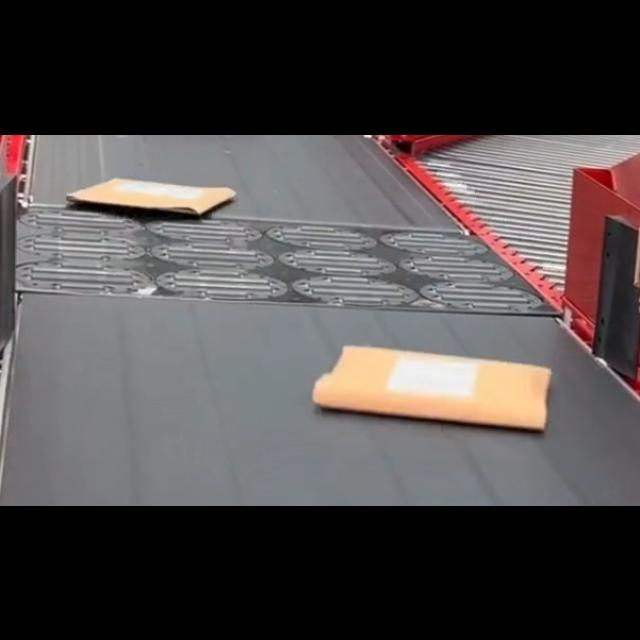mailer: (318, 344, 554, 434), (68, 176, 238, 217)
